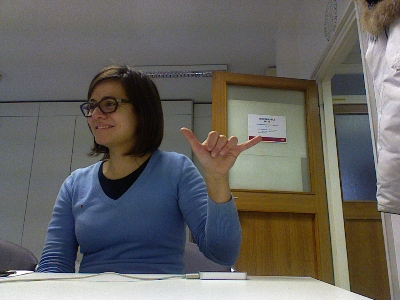六六六: (177, 125, 264, 177)
